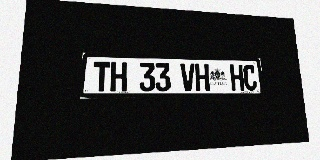3: (155, 63, 171, 91), (140, 62, 155, 91)
C: (243, 65, 257, 91)
H: (110, 62, 127, 92), (195, 64, 210, 91), (230, 64, 244, 91)
T: (93, 61, 110, 92)
V: (180, 63, 195, 91)
